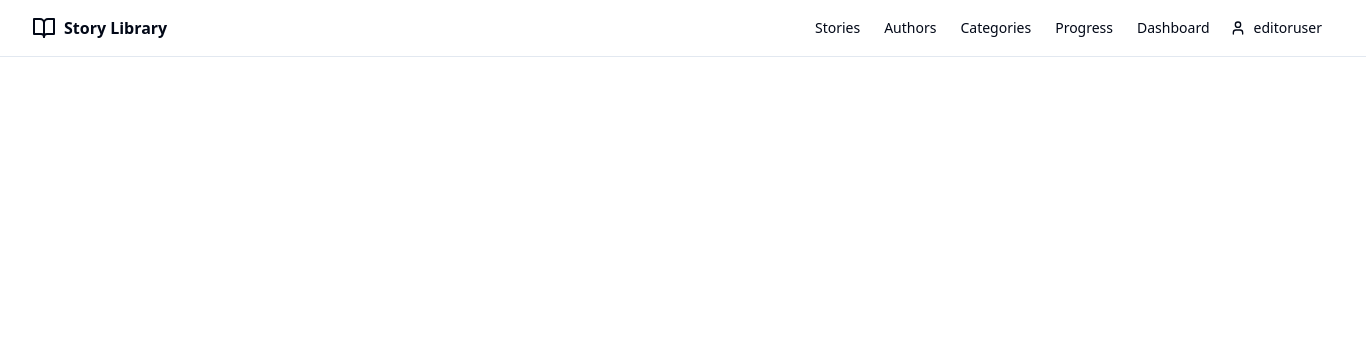
Test case: Navigation › Authenticated editor › should show editor-specific options
Click the button "editoruser": coordinates (1276, 28) [1218,10,1334,46]
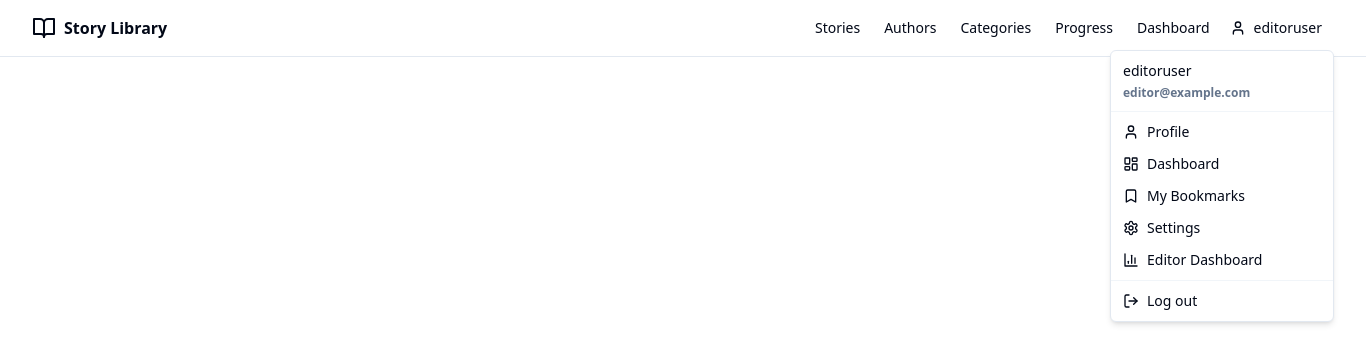
Check: the text "Editor Dashboard" is shown, box [1147,250,1262,270]
